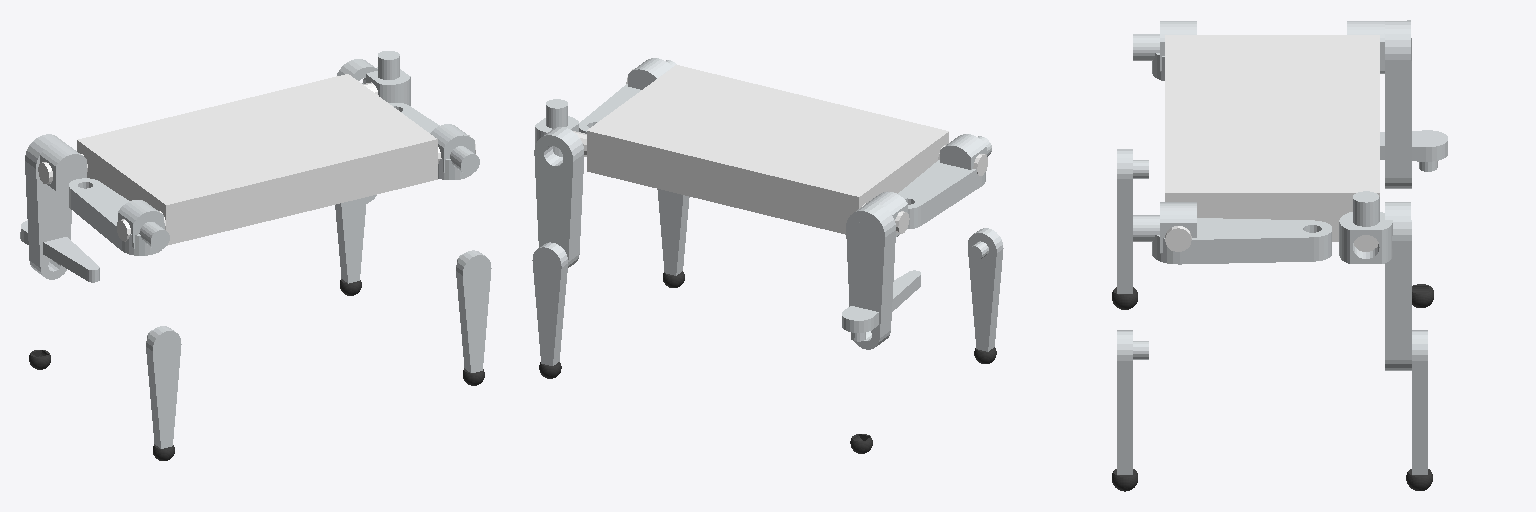
--- Facts derived from the render (not from the file) ---
Views: 3 orthographic renders of the robot side by side, from view 1: azimuth 30°, elevation 25°; view 2: azimuth 150°, elevation 25°; view 3: azimuth 270°, elevation 25°.
Robot: simpledog — 19 links, 18 joints (12 revolute, 6 fixed); root link base_link; default pose: every joint at zero.
Visible links, largest first — view 1: base_link, rear_left_2_Link, front_right_3_Link, rear_right_3_Link, rear_right_2_Link, front_left_3_Link, rear_right_1_Link, front_left_1_Link, rear_left_3_Link, rear_left_1_Link, front_right_1_Link, front_right_2_Link (+1 smaller); view 2: base_link, front_left_2_Link, rear_left_2_Link, front_left_3_Link, rear_right_3_Link, rear_right_2_Link, front_right_3_Link, rear_left_3_Link, rear_right_1_Link, front_left_1_Link, front_right_1_Link, rear_left_1_Link (+1 smaller); view 3: base_link, front_right_2_Link, rear_left_2_Link, front_left_2_Link, front_left_1_Link, front_right_3_Link, rear_right_3_Link, front_left_3_Link, front_right_1_Link, rear_left_3_Link, rear_right_1_Link, rear_left_1_Link.
Link boxes in pixels (x1=…): base_link: x1=38, y1=74, x2=475, y2=245; rear_left_2_Link: x1=25, y1=134, x2=71, y2=279; front_right_3_Link: x1=456, y1=250, x2=491, y2=372; rear_right_3_Link: x1=146, y1=326, x2=181, y2=448; rear_right_2_Link: x1=69, y1=178, x2=161, y2=255; front_left_3_Link: x1=335, y1=201, x2=365, y2=283; rear_right_1_Link: x1=118, y1=200, x2=169, y2=249; front_left_1_Link: x1=366, y1=51, x2=410, y2=105; rear_left_3_Link: x1=20, y1=220, x2=99, y2=282; rear_left_1_Link: x1=40, y1=142, x2=86, y2=195; front_right_1_Link: x1=430, y1=124, x2=479, y2=174; front_right_2_Link: x1=389, y1=103, x2=471, y2=179; base_link: x1=573, y1=65, x2=987, y2=234; front_left_2_Link: x1=534, y1=127, x2=583, y2=267; rear_left_2_Link: x1=846, y1=203, x2=895, y2=349; front_left_3_Link: x1=532, y1=242, x2=567, y2=365; rear_right_3_Link: x1=968, y1=228, x2=1003, y2=351; rear_right_2_Link: x1=898, y1=160, x2=985, y2=228; front_right_3_Link: x1=657, y1=189, x2=689, y2=275; rear_left_3_Link: x1=842, y1=270, x2=920, y2=341; rear_right_1_Link: x1=940, y1=134, x2=991, y2=170; front_left_1_Link: x1=535, y1=99, x2=578, y2=156; front_right_1_Link: x1=628, y1=58, x2=676, y2=89; rear_left_1_Link: x1=856, y1=191, x2=907, y2=241; base_link: x1=1165, y1=35, x2=1379, y2=251; front_right_2_Link: x1=1152, y1=218, x2=1331, y2=264; rear_left_2_Link: x1=1385, y1=20, x2=1411, y2=188; front_left_2_Link: x1=1385, y1=202, x2=1411, y2=370; front_left_1_Link: x1=1339, y1=191, x2=1392, y2=263; front_right_3_Link: x1=1117, y1=330, x2=1148, y2=474; rear_right_3_Link: x1=1117, y1=149, x2=1148, y2=293; front_left_3_Link: x1=1412, y1=330, x2=1427, y2=474; front_right_1_Link: x1=1133, y1=202, x2=1196, y2=253; rear_left_3_Link: x1=1380, y1=130, x2=1447, y2=171; rear_right_1_Link: x1=1133, y1=21, x2=1196, y2=71; rear_left_1_Link: x1=1347, y1=21, x2=1411, y2=73.
Size in the robot's own frame: 0.93 by 0.6275 by 0.622 metres.
17 mesh visuals loaded from 18 distinct referenced files (17 binary STL); not drawn: 1 (reference not matched to a file when rendering).

URDF robot description (simpledog):
<?xml version="1.0" ?>
<!-- =================================================================================== -->
<!-- |    This document was autogenerated by xacro from simpledog.urdf.xacro           | -->
<!-- |    EDITING THIS FILE BY HAND IS NOT RECOMMENDED                                 | -->
<!-- =================================================================================== -->
<robot name="simpledog" xmlns:xacro="http://ros.org/wiki/xacro">
  <gazebo reference="base_link">
    <material>Gazebo/DarkGrey</material>
    <mu1 value="10.0"/>
    <mu2 value="10.0"/>
    <kp value="10000000.0"/>
    <kd value="1.0"/>
    <fdir1 value="1 0 0"/>
    <gravity value="ture"/>
  </gazebo>
  <!--load the gazebo rosz-control plug in-->
  <gazebo>
    <plugin filename="librobot_state_gazebo_ros_control_plugin.so" name="balance_controller">
      <robotNamespace>/simpledog</robotNamespace>
      <robotSimType>balance_controller/SimRobotStateHardwareInterface</robotSimType>
    </plugin>
  </gazebo>
  <!-- <gazebo reference="imu_link">
    <sensor type="imu" name="imu">
      <always_on>true</always_on>
      <visualize>$(arg imu_visual)</visualize>
    </sensor>
    <material>Gazebo/Grey</material>
  </gazebo>

  <gazebo>
    <plugin name="imu_plugin" filename="libgazebo_ros_imu.so">
      <alwaysOn>true</alwaysOn>
      <bodyName>imu_link</bodyName>
      <frameName>imu_link</frameName>
      <topicName>imu</topicName>
      <serviceName>imu_service</serviceName>
      <gaussianNoise>0.0</gaussianNoise>
      <updateRate>200</updateRate>
      <imu>
        <noise>
          <type>gaussian</type>
          <rate>
            <mean>0.0</mean>
            <stddev>2e-4</stddev>
            <bias_mean>0.0000075</bias_mean>
            <bias_stddev>0.0000008</bias_stddev>
          </rate>
          <accel>
            <mean>0.0</mean>
            <stddev>1.7e-2</stddev>
            <bias_mean>0.1</bias_mean>
            <bias_stddev>0.001</bias_stddev>
          </accel>
        </noise>
      </imu>
    </plugin>
  </gazebo>

  <gazebo reference="base_scan">
    <material>Gazebo/FlatBlack</material>
    <sensor type="ray" name="lds_lfcd_sensor">
      <pose>0 0 0 0 0 0</pose>
      <visualize>$(arg laser_visual)</visualize>
      <update_rate>5</update_rate>
      <ray>
        <scan>
          <horizontal>
            <samples>360</samples>
            <resolution>1</resolution>
            <min_angle>0.0</min_angle>
            <max_angle>6.28319</max_angle>
          </horizontal>
        </scan>
        <range>
          <min>0.120</min>
          <max>3.5</max>
          <resolution>0.015</resolution>
        </range>
        <noise>
          <type>gaussian</type>
          <mean>0.0</mean>
          <stddev>0.01</stddev>
        </noise>
      </ray>
      <plugin name="gazebo_ros_lds_lfcd_controller" filename="libgazebo_ros_laser.so">
        <topicName>scan</topicName>
        <frameName>base_scan</frameName>
      </plugin>
    </sensor>
  </gazebo>

  <gazebo reference="camera_rgb_frame">
    <sensor type="depth" name="realsense_R200">
      <always_on>true</always_on>
      <visualize>$(arg camera_visual)</visualize>
      <camera>
          <horizontal_fov>1.3439</horizontal_fov>
          <image>
              <width>1920</width>
              <height>1080</height>
              <format>R8G8B8</format>
          </image>
          <depth_camera></depth_camera>
          <clip>
              <near>0.03</near>
              <far>100</far>
          </clip>
      </camera>
      <plugin name="camera_controller" filename="libgazebo_ros_openni_kinect.so">
        <baseline>0.2</baseline>
        <alwaysOn>true</alwaysOn>
        <updateRate>30.0</updateRate>
        <cameraName>camera</cameraName>
        <frameName>camera_rgb_optical_frame</frameName>
        <imageTopicName>rgb/image_raw</imageTopicName>
        <depthImageTopicName>depth/image_raw</depthImageTopicName>
        <pointCloudTopicName>depth/points</pointCloudTopicName>
        <cameraInfoTopicName>rgb/camera_info</cameraInfoTopicName>
        <depthImageCameraInfoTopicName>depth/camera_info</depthImageCameraInfoTopicName>
        <pointCloudCutoff>0.4</pointCloudCutoff>
            <hackBaseline>0.07</hackBaseline>
            <distortionK1>0.0</distortionK1>
            <distortionK2>0.0</distortionK2>
            <distortionK3>0.0</distortionK3>
            <distortionT1>0.0</distortionT1>
            <distortionT2>0.0</distortionT2>
        <CxPrime>0.0</CxPrime>
        <Cx>0.0</Cx>
        <Cy>0.0</Cy>
        <focalLength>0</focalLength>
        <hackBaseline>0</hackBaseline>
      </plugin>
    </sensor>
  </gazebo>-->
  <!-- Create kinect reference frame -->
  <!-- Add mesh for kinect -->
  <link name="camera_link">
    <origin rpy="0 0 0" xyz="0 0 0"/>
    <mass value="5.238"/>
    <visual>
      <origin rpy="0 0 1.5708" xyz="0 0 0"/>
      <geometry>
        <mesh filename="package://simpledog/meshes/kinect.dae"/>
      </geometry>
    </visual>
    <collision>
      <geometry>
        <box size="0.07 0.3 0.09"/>
      </geometry>
    </collision>
  </link>
  <joint name="camera_optical_joint" type="fixed">
    <origin rpy="-1.5708 0 -1.5708" xyz="0 0 0"/>
    <parent link="camera_link"/>
    <child link="camera_frame_optical"/>
  </joint>
  <link name="camera_frame_optical"/>
  <gazebo reference="camera_link">
    <sensor name="camera" type="depth">
      <always_on>true</always_on>
      <update_rate>10.0</update_rate>
      <camera>
        <horizontal_fov>1.04666666667</horizontal_fov>
        <image>
          <format>R8G8B8</format>
          <width>640</width>
          <height>480</height>
        </image>
        <clip>
          <near>0.05</near>
          <far>8.0</far>
        </clip>
      </camera>
      <plugin filename="libgazebo_ros_openni_kinect.so" name="kinect_camera_controller">
        <cameraName>camera</cameraName>
        <alwaysOn>true</alwaysOn>
        <updateRate>10.0</updateRate>
        <imageTopicName>rgb/image_raw</imageTopicName>
        <depthImageTopicName>depth/image_raw</depthImageTopicName>
        <pointCloudTopicName>depth/points</pointCloudTopicName>
        <cameraInfoTopicName>rgb/camera_info</cameraInfoTopicName>
        <depthImageCameraInfoTopicName>depth/camera_info</depthImageCameraInfoTopicName>
        <frameName>camera_frame_optical</frameName>
        <baseline>0.1</baseline>
        <distortion_k1>0.0</distortion_k1>
        <distortion_k2>0.0</distortion_k2>
        <distortion_k3>0.0</distortion_k3>
        <distortion_t1>0.0</distortion_t1>
        <distortion_t2>0.0</distortion_t2>
        <pointCloudCutoff>0.4</pointCloudCutoff>
        <robotNamespace>/simpledog</robotNamespace>
      </plugin>
    </sensor>
  </gazebo>
  <joint name="kinect_frame_joint" type="fixed">
    <origin rpy="0 0.18 0" xyz="0.3 0 0.1"/>
    <parent link="base_link"/>
    <child link="camera_link"/>
  </joint>
  <gazebo reference="front_left_1_Link">
    <mu1 value="100.0"/>
    <mu2 value="100.0"/>
    <kp value="10000000.0"/>
    <kd value="1.0"/>
    <fdir1 value="1 0 0"/>
  </gazebo>
  <gazebo reference="front_left_1_joint">
    <provideFeedback>true</provideFeedback>
  </gazebo>
  <gazebo>
    <plugin filename="libgazebo_ros_ft_sensor.so" name="ft_sensor">
      <updateRate>100.0</updateRate>
      <topicName>front_left_1_joint_ft_feedback</topicName>
      <jointName>front_left_1_joint</jointName>
    </plugin>
  </gazebo>
  <transmission name="front_left_1_joint_trans" type="SimpleTransmission">
    <type>transmission_interface/SimpleTransmission</type>
    <actuator name="front_left_1_joint_motor">
      <mechanicalReduction>1</mechanicalReduction>
    </actuator>
    <joint name="front_left_1_joint">
      <hardwareInterface>hardware_interface/EffortJointInterface</hardwareInterface>
    </joint>
  </transmission>
  <gazebo reference="front_left_2_Link">
    <mu1 value="100.0"/>
    <mu2 value="100.0"/>
    <kp value="10000000.0"/>
    <kd value="1.0"/>
    <fdir1 value="1 0 0"/>
  </gazebo>
  <gazebo reference="front_left_2_joint">
    <provideFeedback>true</provideFeedback>
  </gazebo>
  <gazebo>
    <plugin filename="libgazebo_ros_ft_sensor.so" name="ft_sensor">
      <updateRate>100.0</updateRate>
      <topicName>front_left_2_joint_ft_feedback</topicName>
      <jointName>front_left_2_joint</jointName>
    </plugin>
  </gazebo>
  <transmission name="front_left_2_joint_trans" type="SimpleTransmission">
    <type>transmission_interface/SimpleTransmission</type>
    <actuator name="front_left_2_joint_motor">
      <mechanicalReduction>1</mechanicalReduction>
    </actuator>
    <joint name="front_left_2_joint">
      <hardwareInterface>hardware_interface/EffortJointInterface</hardwareInterface>
    </joint>
  </transmission>
  <gazebo reference="front_left_3_Link">
    <mu1 value="100.0"/>
    <mu2 value="100.0"/>
    <kp value="10000000.0"/>
    <kd value="1.0"/>
    <fdir1 value="1 0 0"/>
  </gazebo>
  <gazebo reference="front_left_3_joint">
    <provideFeedback>true</provideFeedback>
  </gazebo>
  <gazebo>
    <plugin filename="libgazebo_ros_ft_sensor.so" name="ft_sensor">
      <updateRate>100.0</updateRate>
      <topicName>front_left_3_joint_ft_feedback</topicName>
      <jointName>front_left_3_joint</jointName>
    </plugin>
  </gazebo>
  <transmission name="front_left_3_joint_trans" type="SimpleTransmission">
    <type>transmission_interface/SimpleTransmission</type>
    <actuator name="front_left_3_joint_motor">
      <mechanicalReduction>1</mechanicalReduction>
    </actuator>
    <joint name="front_left_3_joint">
      <hardwareInterface>hardware_interface/EffortJointInterface</hardwareInterface>
    </joint>
  </transmission>
  <gazebo reference="front_right_1_Link">
    <mu1 value="100.0"/>
    <mu2 value="100.0"/>
    <kp value="10000000.0"/>
    <kd value="1.0"/>
    <fdir1 value="1 0 0"/>
  </gazebo>
  <gazebo reference="front_right_1_joint">
    <provideFeedback>true</provideFeedback>
  </gazebo>
  <gazebo>
    <plugin filename="libgazebo_ros_ft_sensor.so" name="ft_sensor">
      <updateRate>100.0</updateRate>
      <topicName>front_right_1_joint_ft_feedback</topicName>
      <jointName>front_right_1_joint</jointName>
    </plugin>
  </gazebo>
  <transmission name="front_right_1_joint_trans" type="SimpleTransmission">
    <type>transmission_interface/SimpleTransmission</type>
    <actuator name="front_right_1_joint_motor">
      <mechanicalReduction>1</mechanicalReduction>
    </actuator>
    <joint name="front_right_1_joint">
      <hardwareInterface>hardware_interface/EffortJointInterface</hardwareInterface>
    </joint>
  </transmission>
  <gazebo reference="front_right_2_Link">
    <mu1 value="100.0"/>
    <mu2 value="100.0"/>
    <kp value="10000000.0"/>
    <kd value="1.0"/>
    <fdir1 value="1 0 0"/>
  </gazebo>
  <gazebo reference="front_right_2_joint">
    <provideFeedback>true</provideFeedback>
  </gazebo>
  <gazebo>
    <plugin filename="libgazebo_ros_ft_sensor.so" name="ft_sensor">
      <updateRate>100.0</updateRate>
      <topicName>front_right_2_joint_ft_feedback</topicName>
      <jointName>front_right_2_joint</jointName>
    </plugin>
  </gazebo>
  <transmission name="front_right_2_joint_trans" type="SimpleTransmission">
    <type>transmission_interface/SimpleTransmission</type>
    <actuator name="front_right_2_joint_motor">
      <mechanicalReduction>1</mechanicalReduction>
    </actuator>
    <joint name="front_right_2_joint">
      <hardwareInterface>hardware_interface/EffortJointInterface</hardwareInterface>
    </joint>
  </transmission>
  <gazebo reference="front_right_3_Link">
    <mu1 value="100.0"/>
    <mu2 value="100.0"/>
    <kp value="10000000.0"/>
    <kd value="1.0"/>
    <fdir1 value="1 0 0"/>
  </gazebo>
  <gazebo reference="front_right_3_joint">
    <provideFeedback>true</provideFeedback>
  </gazebo>
  <gazebo>
    <plugin filename="libgazebo_ros_ft_sensor.so" name="ft_sensor">
      <updateRate>100.0</updateRate>
      <topicName>front_right_3_joint_ft_feedback</topicName>
      <jointName>front_right_3_joint</jointName>
    </plugin>
  </gazebo>
  <transmission name="front_right_3_joint_trans" type="SimpleTransmission">
    <type>transmission_interface/SimpleTransmission</type>
    <actuator name="front_right_3_joint_motor">
      <mechanicalReduction>1</mechanicalReduction>
    </actuator>
    <joint name="front_right_3_joint">
      <hardwareInterface>hardware_interface/EffortJointInterface</hardwareInterface>
    </joint>
  </transmission>
  <gazebo reference="rear_right_1_Link">
    <mu1 value="100.0"/>
    <mu2 value="100.0"/>
    <kp value="10000000.0"/>
    <kd value="1.0"/>
    <fdir1 value="1 0 0"/>
  </gazebo>
  <gazebo reference="rear_right_1_joint">
    <provideFeedback>true</provideFeedback>
  </gazebo>
  <gazebo>
    <plugin filename="libgazebo_ros_ft_sensor.so" name="ft_sensor">
      <updateRate>100.0</updateRate>
      <topicName>rear_right_1_joint_ft_feedback</topicName>
      <jointName>rear_right_1_joint</jointName>
    </plugin>
  </gazebo>
  <transmission name="rear_right_1_joint_trans" type="SimpleTransmission">
    <type>transmission_interface/SimpleTransmission</type>
    <actuator name="rear_right_1_joint_motor">
      <mechanicalReduction>1</mechanicalReduction>
    </actuator>
    <joint name="rear_right_1_joint">
      <hardwareInterface>hardware_interface/EffortJointInterface</hardwareInterface>
    </joint>
  </transmission>
  <gazebo reference="rear_right_2_Link">
    <mu1 value="100.0"/>
    <mu2 value="100.0"/>
    <kp value="10000000.0"/>
    <kd value="1.0"/>
    <fdir1 value="1 0 0"/>
  </gazebo>
  <gazebo reference="rear_right_2_joint">
    <provideFeedback>true</provideFeedback>
  </gazebo>
  <gazebo>
    <plugin filename="libgazebo_ros_ft_sensor.so" name="ft_sensor">
      <updateRate>100.0</updateRate>
      <topicName>rear_right_2_joint_ft_feedback</topicName>
      <jointName>rear_right_2_joint</jointName>
    </plugin>
  </gazebo>
  <transmission name="rear_right_2_joint_trans" type="SimpleTransmission">
    <type>transmission_interface/SimpleTransmission</type>
    <actuator name="rear_right_2_joint_motor">
      <mechanicalReduction>1</mechanicalReduction>
    </actuator>
    <joint name="rear_right_2_joint">
      <hardwareInterface>hardware_interface/EffortJointInterface</hardwareInterface>
    </joint>
  </transmission>
  <gazebo reference="rear_right_3_Link">
    <mu1 value="100.0"/>
    <mu2 value="100.0"/>
    <kp value="10000000.0"/>
    <kd value="1.0"/>
    <fdir1 value="1 0 0"/>
  </gazebo>
  <gazebo reference="rear_right_3_joint">
    <provideFeedback>true</provideFeedback>
  </gazebo>
  <gazebo>
    <plugin filename="libgazebo_ros_ft_sensor.so" name="ft_sensor">
      <updateRate>100.0</updateRate>
      <topicName>rear_right_3_joint_ft_feedback</topicName>
      <jointName>rear_right_3_joint</jointName>
    </plugin>
  </gazebo>
  <transmission name="rear_right_3_joint_trans" type="SimpleTransmission">
    <type>transmission_interface/SimpleTransmission</type>
    <actuator name="rear_right_3_joint_motor">
      <mechanicalReduction>1</mechanicalReduction>
    </actuator>
    <joint name="rear_right_3_joint">
      <hardwareInterface>hardware_interface/EffortJointInterface</hardwareInterface>
    </joint>
  </transmission>
  <gazebo reference="rear_left_1_Link">
    <mu1 value="100.0"/>
    <mu2 value="100.0"/>
    <kp value="10000000.0"/>
    <kd value="1.0"/>
    <fdir1 value="1 0 0"/>
  </gazebo>
  <gazebo reference="rear_left_1_joint">
    <provideFeedback>true</provideFeedback>
  </gazebo>
  <gazebo>
    <plugin filename="libgazebo_ros_ft_sensor.so" name="ft_sensor">
      <updateRate>100.0</updateRate>
      <topicName>rear_left_1_joint_ft_feedback</topicName>
      <jointName>rear_left_1_joint</jointName>
    </plugin>
  </gazebo>
  <transmission name="rear_left_1_joint_trans" type="SimpleTransmission">
    <type>transmission_interface/SimpleTransmission</type>
    <actuator name="rear_left_1_joint_motor">
      <mechanicalReduction>1</mechanicalReduction>
    </actuator>
    <joint name="rear_left_1_joint">
      <hardwareInterface>hardware_interface/EffortJointInterface</hardwareInterface>
    </joint>
  </transmission>
  <gazebo reference="rear_left_2_Link">
    <mu1 value="100.0"/>
    <mu2 value="100.0"/>
    <kp value="10000000.0"/>
    <kd value="1.0"/>
    <fdir1 value="1 0 0"/>
  </gazebo>
  <gazebo reference="rear_left_2_joint">
    <provideFeedback>true</provideFeedback>
  </gazebo>
  <gazebo>
    <plugin filename="libgazebo_ros_ft_sensor.so" name="ft_sensor">
      <updateRate>100.0</updateRate>
      <topicName>rear_left_2_joint_ft_feedback</topicName>
      <jointName>rear_left_2_joint</jointName>
    </plugin>
  </gazebo>
  <transmission name="rear_left_2_joint_trans" type="SimpleTransmission">
    <type>transmission_interface/SimpleTransmission</type>
    <actuator name="rear_left_2_joint_motor">
      <mechanicalReduction>1</mechanicalReduction>
    </actuator>
    <joint name="rear_left_2_joint">
      <hardwareInterface>hardware_interface/EffortJointInterface</hardwareInterface>
    </joint>
  </transmission>
  <gazebo reference="rear_left_3_Link">
    <mu1 value="100.0"/>
    <mu2 value="100.0"/>
    <kp value="10000000.0"/>
    <kd value="1.0"/>
    <fdir1 value="1 0 0"/>
  </gazebo>
  <gazebo reference="rear_left_3_joint">
    <provideFeedback>true</provideFeedback>
  </gazebo>
  <gazebo>
    <plugin filename="libgazebo_ros_ft_sensor.so" name="ft_sensor">
      <updateRate>100.0</updateRate>
      <topicName>rear_left_3_joint_ft_feedback</topicName>
      <jointName>rear_left_3_joint</jointName>
    </plugin>
  </gazebo>
  <transmission name="rear_left_3_joint_trans" type="SimpleTransmission">
    <type>transmission_interface/SimpleTransmission</type>
    <actuator name="rear_left_3_joint_motor">
      <mechanicalReduction>1</mechanicalReduction>
    </actuator>
    <joint name="rear_left_3_joint">
      <hardwareInterface>hardware_interface/EffortJointInterface</hardwareInterface>
    </joint>
  </transmission>
  <gazebo reference="lf_foot_Link">
    <material>Gazebo/DarkGrey</material>
    <mu1 value="100.0"/>
    <mu2 value="100.0"/>
    <kp value="10000000.0"/>
    <kd value="1.0"/>
    <fdir1 value="1 0 0"/>
  </gazebo>
  <gazebo reference="lf_foot_joint">
    <provideFeedback value="true"/>
  </gazebo>
  <gazebo reference="lf_foot_Link">
    <turnGravityOff>true</turnGravityOff>
    <selfCollide>false</selfCollide>
    <sensor name="lf_foot_contact_sensor" type="contact">
      <update_rate>100.0</update_rate>
      <contact>
        <collision>front_left_3_Link_fixed_joint_lump__lf_foot_Link_collision_1</collision>
      </contact>
      <plugin filename="libgazebo_ros_bumper.so" name="lf_foot_gazebo_ros_bumper_controller">
        <alwaysOn>true</alwaysOn>
        <frameName>lf_foot_Link</frameName>
        <!-- <frameName>world</frameName> -->
        <updateRate>100.0</updateRate>
        <bumperTopicName>lf_foot_bumper</bumperTopicName>
      </plugin>
    </sensor>
  </gazebo>
  <!-- <gazebo>
                <plugin name="ft_sensor" filename="libgazebo_ros_ft_sensor.so">
                    <updateRate>100.0</updateRate>
                    <topicName>${foot_prefix}_joint_ft_feedback</topicName>
                    <jointName>${foot_prefix}_joint</jointName>
                </plugin>
            </gazebo> -->
  <gazebo>
    <plugin filename="libgazebo_ros_f3d.so" name="f3d_lf_foot_controller">
      <alwaysOn>true</alwaysOn>
      <updateRate>10.0</updateRate>
      <frameName>base_link</frameName>
      <bodyName>lf_foot_Link</bodyName>
      <topicName>lf_foot_force_ground_truth</topicName>
    </plugin>
  </gazebo>
  <gazebo reference="rf_foot_Link">
    <material>Gazebo/DarkGrey</material>
    <mu1 value="100.0"/>
    <mu2 value="100.0"/>
    <kp value="10000000.0"/>
    <kd value="1.0"/>
    <fdir1 value="1 0 0"/>
  </gazebo>
  <gazebo reference="rf_foot_joint">
    <provideFeedback value="true"/>
  </gazebo>
  <gazebo reference="rf_foot_Link">
    <turnGravityOff>true</turnGravityOff>
    <selfCollide>false</selfCollide>
    <sensor name="rf_foot_contact_sensor" type="contact">
      <update_rate>100.0</update_rate>
      <contact>
        <collision>front_right_3_Link_fixed_joint_lump__rf_foot_Link_collision_1</collision>
      </contact>
      <plugin filename="libgazebo_ros_bumper.so" name="rf_foot_gazebo_ros_bumper_controller">
        <alwaysOn>true</alwaysOn>
        <frameName>rf_foot_Link</frameName>
        <!-- <frameName>world</frameName> -->
        <updateRate>100.0</updateRate>
        <bumperTopicName>rf_foot_bumper</bumperTopicName>
      </plugin>
    </sensor>
  </gazebo>
  <!-- <gazebo>
                <plugin name="ft_sensor" filename="libgazebo_ros_ft_sensor.so">
                    <updateRate>100.0</updateRate>
                    <topicName>${foot_prefix}_joint_ft_feedback</topicName>
                    <jointName>${foot_prefix}_joint</jointName>
                </plugin>
            </gazebo> -->
  <gazebo>
    <plugin filename="libgazebo_ros_f3d.so" name="f3d_rf_foot_controller">
      <alwaysOn>true</alwaysOn>
      <updateRate>10.0</updateRate>
      <frameName>base_link</frameName>
      <bodyName>rf_foot_Link</bodyName>
      <topicName>rf_foot_force_ground_truth</topicName>
    </plugin>
  </gazebo>
  <gazebo reference="rh_foot_Link">
    <material>Gazebo/DarkGrey</material>
    <mu1 value="100.0"/>
    <mu2 value="100.0"/>
    <kp value="10000000.0"/>
    <kd value="1.0"/>
    <fdir1 value="1 0 0"/>
  </gazebo>
  <gazebo reference="rh_foot_joint">
    <provideFeedback value="true"/>
  </gazebo>
  <gazebo reference="rh_foot_Link">
    <turnGravityOff>true</turnGravityOff>
    <selfCollide>false</selfCollide>
    <sensor name="rh_foot_contact_sensor" type="contact">
      <update_rate>100.0</update_rate>
      <contact>
        <collision>rear_left_3_Link_fixed_joint_lump__rh_foot_Link_collision_1</collision>
      </contact>
      <plugin filename="libgazebo_ros_bumper.so" name="rh_foot_gazebo_ros_bumper_controller">
        <alwaysOn>true</alwaysOn>
        <frameName>rh_foot_Link</frameName>
        <!-- <frameName>world</frameName> -->
        <updateRate>100.0</updateRate>
        <bumperTopicName>rh_foot_bumper</bumperTopicName>
      </plugin>
    </sensor>
  </gazebo>
  <!-- <gazebo>
                <plugin name="ft_sensor" filename="libgazebo_ros_ft_sensor.so">
                    <updateRate>100.0</updateRate>
                    <topicName>${foot_prefix}_joint_ft_feedback</topicName>
                    <jointName>${foot_prefix}_joint</jointName>
                </plugin>
            </gazebo> -->
  <gazebo>
    <plugin filename="libgazebo_ros_f3d.so" name="f3d_rh_foot_controller">
      <alwaysOn>true</alwaysOn>
      <updateRate>10.0</updateRate>
      <frameName>base_link</frameName>
      <bodyName>rh_foot_Link</bodyName>
      <topicName>rh_foot_force_ground_truth</topicName>
    </plugin>
  </gazebo>
  <gazebo reference="lh_foot_Link">
    <material>Gazebo/DarkGrey</material>
    <mu1 value="100.0"/>
    <mu2 value="100.0"/>
    <kp value="10000000.0"/>
    <kd value="1.0"/>
    <fdir1 value="1 0 0"/>
  </gazebo>
  <gazebo reference="lh_foot_joint">
    <provideFeedback value="true"/>
  </gazebo>
  <gazebo reference="lh_foot_Link">
    <turnGravityOff>true</turnGravityOff>
    <selfCollide>false</selfCollide>
    <sensor name="lh_foot_contact_sensor" type="contact">
      <update_rate>100.0</update_rate>
      <contact>
        <collision>rear_right_3_Link_fixed_joint_lump__lh_foot_Link_collision_1</collision>
      </contact>
      <plugin filename="libgazebo_ros_bumper.so" name="lh_foot_gazebo_ros_bumper_controller">
        <alwaysOn>true</alwaysOn>
        <frameName>lh_foot_Link</frameName>
        <!-- <frameName>world</frameName> -->
        <updateRate>100.0</updateRate>
        <bumperTopicName>lh_foot_bumper</bumperTopicName>
      </plugin>
    </sensor>
  </gazebo>
  <!-- <gazebo>
                <plugin name="ft_sensor" filename="libgazebo_ros_ft_sensor.so">
                    <updateRate>100.0</updateRate>
                    <topicName>${foot_prefix}_joint_ft_feedback</topicName>
                    <jointName>${foot_prefix}_joint</jointName>
                </plugin>
            </gazebo> -->
  <gazebo>
    <plugin filename="libgazebo_ros_f3d.so" name="f3d_lh_foot_controller">
      <alwaysOn>true</alwaysOn>
      <updateRate>10.0</updateRate>
      <frameName>base_link</frameName>
      <bodyName>lh_foot_Link</bodyName>
      <topicName>lh_foot_force_ground_truth</topicName>
    </plugin>
  </gazebo>
  <link name="base_link">
    <inertial>
      <origin rpy="0 0 0" xyz="2.919E-17 -4.8141E-17 9.4163E-19"/>
      <mass value="15.238"/>
      <inertia ixx="0.74932" ixy="-1.2062E-17" ixz="-2.0602E-16" iyy="2.3017" iyz="-3.8366E-17" izz="2.9675"/>
    </inertial>
    <visual>
      <origin rpy="0 0 0" xyz="0 0 0"/>
      <geometry>
        <mesh filename="package://simpledog/meshes/base_link.STL"/>
      </geometry>
      <material name="">
        <color rgba="1 1 1 1"/>
      </material>
    </visual>
    <collision>
      <origin rpy="0 0 0" xyz="0 0 0"/>
      <geometry>
        <mesh filename="package://simpledog/meshes/base_link.STL"/>
      </geometry>
    </collision>
  </link>
  <link name="front_left_1_Link">
    <inertial>
      <origin rpy="0 0 0" xyz="1.7015E-17 0.012793 -0.00023552"/>
      <mass value="1.1709"/>
      <inertia ixx="0.001719" ixy="2.9302E-20" ixz="-1.6433E-19" iyy="0.0013167" iyz="-7.6795E-20" izz="0.0021511"/>
    </inertial>
    <visual>
      <origin rpy="0 0 0" xyz="0 0 0"/>
      <geometry>
        <mesh filename="package://simpledog/meshes/front_left_1_Link.STL"/>
      </geometry>
      <material name="">
        <color rgba="0.89804 0.91765 0.92941 1"/>
      </material>
    </visual>
    <collision>
      <origin rpy="0 0 0" xyz="0 0 0"/>
      <geometry>
        <mesh filename="package://simpledog/meshes/front_left_1_Link.STL"/>
      </geometry>
    </collision>
  </link>
  <joint name="front_left_1_joint" type="revolute">
    <origin rpy="1.57079632679453 1.57051603921301 1.57079632679453" xyz="0.400 0.175 0"/>
    <parent link="base_link"/>
    <child link="front_left_1_Link"/>
    <axis xyz="0 0 1"/>
    <limit effort="300" lower="-3.0" upper="3.0" velocity="10"/>
  </joint>
  <link name="front_left_2_Link">
    <inertial>
      <origin rpy="0 0 0" xyz="0.11439 0.00028184 0.05942"/>
      <mass value="1.3902"/>
      <inertia ixx="0.0030209" ixy="-5.6504E-20" ixz="2.8413E-18" iyy="0.026875" iyz="1.5349E-06" izz="0.028484"/>
    </inertial>
    <visual>
      <origin rpy="0 0 0" xyz="0 0 0"/>
      <geometry>
        <mesh filename="package://simpledog/meshes/front_left_2_Link.STL"/>
      </geometry>
      <material name="">
        <color rgba="0.89804 0.91765 0.92941 1"/>
      </material>
    </visual>
    <collision>
      <origin rpy="0 0 0" xyz="0 0 0"/>
      <geometry>
        <mesh filename="package://simpledog/meshes/front_left_2_Link.STL"/>
      </geometry>
    </collision>
  </link>
  <joint name="front_left_2_joint" type="revolute">
    <origin rpy="-1.5708 0 0" xyz="0 0 0"/>
    <parent link="front_left_1_Link"/>
    <child link="front_left_2_Link"/>
    <axis xyz="0 0 1"/>
    <limit effort="300" lower="-3.0" upper="3.0" velocity="10"/>
  </joint>
  <link name="front_left_3_Link">
    <inertial>
      <origin rpy="0 0 0" xyz="0.087825 1.529E-05 -0.016708"/>
      <mass value="1.3523"/>
      <inertia ixx="0.00053032" ixy="-8.5291E-07" ixz="-0.00020744" iyy="0.0091429" iyz="-8.3738E-08" izz="0.009338"/>
    </inertial>
    <visual>
      <origin rpy="0 0 0" xyz="0 0 0"/>
      <geometry>
        <mesh filename="package://simpledog/meshes/front_left_3_Link.STL"/>
      </geometry>
      <material name="">
        <color rgba="0.89804 0.91765 0.92941 1"/>
      </material>
    </visual>
    <collision>
      <origin rpy="0 0 0" xyz="0 0 0"/>
      <geometry>
        <mesh filename="package://simpledog/meshes/front_left_3_Link.STL"/>
      </geometry>
    </collision>
  </link>
  <joint name="front_left_3_joint" type="revolute">
    <origin rpy="0 0 0" xyz="0.250069171339977 0.000334332414087979 0.11441948932032"/>
    <parent link="front_left_2_Link"/>
    <child link="front_left_3_Link"/>
    <axis xyz="0 0 1"/>
    <limit effort="300" lower="-3.0" upper="3.0" velocity="10"/>
  </joint>
  <link name="lf_foot_Link">
    <inertial>
      <origin rpy="0 0 0" xyz="0.0178251114319979 0 0"/>
      <mass value="0.0556193699314689"/>
      <inertia ixx="1.65498601680364E-05" ixy="-1.00565663974796E-21" ixz="1.3524403015242E-22" iyy="1.23221647613412E-05" iyz="-3.56241096455504E-11" izz="1.25699738250509E-05"/>
    </inertial>
    <visual>
      <origin rpy="0 0 0" xyz="0 0 0"/>
      <geometry>
        <mesh filename="package://simpledog/meshes/lf_foot_Link.STL"/>
      </geometry>
      <material name="">
        <color rgba="0.298039215686275 0.298039215686275 0.298039215686275 1"/>
      </material>
    </visual>
    <collision>
      <origin rpy="0 0 0" xyz="0 0 0"/>
      <geometry>
        <mesh filename="package://simpledog/meshes/lf_foot_Link.STL"/>
      </geometry>
    </collision>
  </link>
  <joint name="lf_foot_joint" type="fixed">
    <origin rpy="0 0 0" xyz="0.250003601978058 0 -0.0149398452771417"/>
    <parent link="front_left_3_Link"/>
    <child link="lf_foot_Link"/>
    <axis xyz="0 0 0"/>
  </joint>
  <link name="front_right_1_Link">
    <inertial>
      <origin rpy="0 0 0" xyz="9.7104E-17 0.012793 1.6653E-16"/>
      <mass value="1.1709"/>
      <inertia ixx="0.001719" ixy="-5.88E-19" ixz="-1.7779E-19" iyy="0.0013167" iyz="-2.0543E-19" izz="0.0021511"/>
    </inertial>
    <visual>
      <origin rpy="0 0 0" xyz="0 0 0"/>
      <geometry>
        <mesh filename="package://simpledog/meshes/front_right_1_Link.STL"/>
      </geometry>
      <material name="">
        <color rgba="0.89804 0.91765 0.92941 1"/>
      </material>
    </visual>
    <collision>
      <origin rpy="0 0 0" xyz="0 0 0"/>
      <geometry>
        <mesh filename="package://simpledog/meshes/front_right_1_Link.STL"/>
      </geometry>
    </collision>
  </link>
  <joint name="front_right_1_joint" type="revolute">
    <origin rpy="1.5708 1.5708 -1.5708" xyz="0.4 -0.175 0"/>
    <parent link="base_link"/>
    <child link="front_right_1_Link"/>
    <axis xyz="0 0 1"/>
    <limit effort="300" lower="-3.0" upper="3.0" velocity="10"/>
  </joint>
  <link name="front_right_2_Link">
    <inertial>
      <origin rpy="0 0 0" xyz="0.11432 -5.5511E-17 0.05942"/>
      <mass value="1.3902"/>
      <inertia ixx="0.0030209" ixy="-4.0905E-18" ixz="-8.1586E-10" iyy="0.026875" iyz="2.3399E-19" izz="0.028484"/>
    </inertial>
    <visual>
      <origin rpy="0 0 0" xyz="0 0 0"/>
      <geometry>
        <mesh filename="package://simpledog/meshes/front_right_2_Link.STL"/>
      </geometry>
      <material name="">
        <color rgba="0.89804 0.91765 0.92941 1"/>
      </material>
    </visual>
    <collision>
      <origin rpy="0 0 0" xyz="0 0 0"/>
      <geometry>
        <mesh filename="package://simpledog/meshes/front_right_2_Link.STL"/>
      </geometry>
    </collision>
  </link>
  <joint name="front_right_2_joint" type="revolute">
    <origin rpy="-1.5708 0 0" xyz="0 0 0"/>
    <parent link="front_right_1_Link"/>
    <child link="front_right_2_Link"/>
    <axis xyz="0 0 1"/>
    <limit effort="300" lower="-3.0" upper="3.0" velocity="10"/>
  </joint>
  <link name="front_right_3_Link">
    <inertial>
      <origin rpy="0 0 0" xyz="0.087821 6.7221E-06 -0.016729"/>
      <mass value="1.3523"/>
      <inertia ixx="0.00053022" ixy="-9.5809E-07" ixz="-0.00020532" iyy="0.0091429" iyz="1.6437E-08" izz="0.0093381"/>
    </inertial>
    <visual>
      <origin rpy="0 0 0" xyz="0 0 0"/>
      <geometry>
        <mesh filename="package://simpledog/meshes/front_right_3_Link.STL"/>
      </geometry>
      <material name="">
        <color rgba="0.89804 0.91765 0.92941 1"/>
      </material>
    </visual>
    <collision>
      <origin rpy="0 0 0" xyz="0 0 0"/>
      <geometry>
        <mesh filename="package://simpledog/meshes/front_right_3_Link.STL"/>
      </geometry>
    </collision>
  </link>
  <joint name="front_right_3_joint" type="revolute">
    <origin rpy="0 0 0" xyz="0.249999996334044 0 0.114419764295838"/>
    <parent link="front_right_2_Link"/>
    <child link="front_right_3_Link"/>
    <axis xyz="0 0 1"/>
    <limit effort="300" lower="-3.0" upper="3.0" velocity="10"/>
  </joint>
  <link name="rf_foot_Link">
    <inertial>
      <origin rpy="0 0 0" xyz="0.017825 0 0"/>
      <mass value="0.055619"/>
      <inertia ixx="1.655E-05" ixy="2.2089E-21" ixz="-1.1638E-21" iyy="1.2322E-05" iyz="-2.0835E-21" izz="1.257E-05"/>
    </inertial>
    <visual>
      <origin rpy="0 0 0" xyz="0 0 0"/>
      <geometry>
        <mesh filename="package://simpledog/meshes/rf_foot_Link.STL"/>
      </geometry>
      <material name="">
        <color rgba="0.29804 0.29804 0.29804 1"/>
      </material>
    </visual>
    <collision>
      <origin rpy="0 0 0" xyz="0 0 0"/>
      <geometry>
        <mesh filename="package://simpledog/meshes/rf_foot_Link.STL"/>
      </geometry>
    </collision>
  </link>
  <joint name="rf_foot_joint" type="fixed">
    <origin rpy="-0.00020601381558494 5.03069808033274E-17 -4.99600361081321E-16" xyz="0.25 0 -0.0149999996816874"/>
    <parent link="front_right_3_Link"/>
    <child link="rf_foot_Link"/>
    <axis xyz="0 0 0"/>
  </joint>
  <link name="rear_left_1_Link">
    <inertial>
      <origin rpy="0 0 0" xyz="5.7896E-17 0.012793 2.7756E-16"/>
      <mass value="1.1709"/>
      <inertia ixx="0.001719" ixy="-2.0371E-19" ixz="5.3128E-21" iyy="0.0013167" iyz="-3.3901E-19" izz="0.0021511"/>
    </inertial>
    <visual>
      <origin rpy="0 0 0" xyz="0 0 0"/>
      <geometry>
        <mesh filename="package://simpledog/meshes/rear_left_1_Link.STL"/>
      </geometry>
      <material name="">
        <color rgba="0.89804 0.91765 0.92941 1"/>
      </material>
    </visual>
    <collision>
      <origin rpy="0 0 0" xyz="0 0 0"/>
      <geometry>
        <mesh filename="package://simpledog/meshes/rear_left_1_Link.STL"/>
      </geometry>
    </collision>
  </link>
  <joint name="rear_left_1_joint" type="revolute">
    <origin rpy="1.57079632679488 1.56519932988528 1.57079632679488" xyz="-0.4 0.175 0"/>
    <parent link="base_link"/>
    <child link="rear_left_1_Link"/>
    <axis xyz="0 0 1"/>
    <limit effort="300" lower="-3.0" upper="3.0" velocity="10"/>
  </joint>
  <link name="rear_left_2_Link">
    <inertial>
      <origin rpy="0 0 0" xyz="0.11432 0 0.05942"/>
      <mass value="1.3902"/>
      <inertia ixx="0.0030209" ixy="-1.8526E-18" ixz="2.5242E-19" iyy="0.026875" iyz="3.7608E-19" izz="0.028484"/>
    </inertial>
    <visual>
      <origin rpy="0 0 0" xyz="0 0 0"/>
      <geometry>
        <mesh filename="package://simpledog/meshes/rear_left_2_Link.STL"/>
      </geometry>
      <material name="">
        <color rgba="0.89804 0.91765 0.92941 1"/>
      </material>
    </visual>
    <collision>
      <origin rpy="0 0 0" xyz="0 0 0"/>
      <geometry>
        <mesh filename="package://simpledog/meshes/rear_left_2_Link.STL"/>
      </geometry>
    </collision>
  </link>
  <joint name="rear_left_2_joint" type="revolute">
    <origin rpy="-1.5707963267949 0 0" xyz="0 0 0"/>
    <parent link="rear_left_1_Link"/>
    <child link="rear_left_2_Link"/>
    <axis xyz="0 0 1"/>
    <limit effort="300" lower="-3.0" upper="3.0" velocity="10"/>
  </joint>
  <link name="rear_left_3_Link">
    <inertial>
      <origin rpy="0 0 0" xyz="0.087821 5.7424E-05 -0.016729"/>
      <mass value="1.3523"/>
      <inertia ixx="0.00053022" ixy="-3.3581E-07" ixz="-0.00020532" iyy="0.0091429" iyz="-5.7512E-07" izz="0.0093381"/>
    </inertial>
    <visual>
      <origin rpy="0 0 0" xyz="0 0 0"/>
      <geometry>
        <mesh filename="package://simpledog/meshes/rear_left_3_Link.STL"/>
      </geometry>
      <material name="">
        <color rgba="0.89804 0.91765 0.92941 1"/>
      </material>
    </visual>
    <collision>
      <origin rpy="0 0 0" xyz="0 0 0"/>
      <geometry>
        <mesh filename="package://simpledog/meshes/rear_left_3_Link.STL"/>
      </geometry>
    </collision>
  </link>
  <joint name="rear_left_3_joint" type="revolute">
    <origin rpy="0 0 0" xyz="0.25 0 0.114419756285561"/>
    <parent link="rear_left_2_Link"/>
    <child link="rear_left_3_Link"/>
    <axis xyz="0 0 1"/>
    <limit effort="300" lower="-3.0" upper="3.0" velocity="10"/>
  </joint>
  <link name="lh_foot_Link">
    <inertial>
      <origin rpy="0 0 0" xyz="0.017825 -1.1102E-16 5.5511E-17"/>
      <mass value="0.055619"/>
      <inertia ixx="1.655E-05" ixy="3.2567E-22" ixz="-9.7111E-22" iyy="1.2322E-05" iyz="5.4896E-20" izz="1.257E-05"/>
    </inertial>
    <visual>
      <origin rpy="0 0 0" xyz="0 0 0"/>
      <geometry>
        <mesh filename="package://simpledog/meshes/rh_foot_Link.STL"/>
      </geometry>
      <material name="">
        <color rgba="0.29804 0.29804 0.29804 1"/>
      </material>
    </visual>
    <collision>
      <origin rpy="0 0 0" xyz="0 0 0"/>
      <geometry>
        <mesh filename="package://simpledog/meshes/rh_foot_Link.STL"/>
      </geometry>
    </collision>
  </link>
  <joint name="lh_foot_joint" type="fixed">
    <origin rpy="0 0 0" xyz="0.24742286767759 0.000379574544590811 -0.015"/>
    <parent link="rear_left_3_Link"/>
    <child link="lh_foot_Link"/>
    <axis xyz="0 0 0"/>
  </joint>
  <link name="rear_right_1_Link">
    <inertial>
      <origin rpy="0 0 0" xyz="-6.2968E-06 0.012793 0.0003022"/>
      <mass value="1.1709"/>
      <inertia ixx="0.001719" ixy="1.9803E-07" ixz="-1.4315E-19" iyy="0.0013167" iyz="-1.2614E-19" izz="0.0021511"/>
    </inertial>
    <visual>
      <origin rpy="0 0 0" xyz="0 0 0"/>
      <geometry>
        <mesh filename="package://simpledog/meshes/rear_right_1_Link.STL"/>
      </geometry>
      <material name="">
        <color rgba="0.89804 0.91765 0.92941 1"/>
      </material>
    </visual>
    <collision>
      <origin rpy="0 0 0" xyz="0 0 0"/>
      <geometry>
        <mesh filename="package://simpledog/meshes/rear_right_1_Link.STL"/>
      </geometry>
    </collision>
  </link>
  <joint name="rear_right_1_joint" type="revolute">
    <origin rpy="1.5708 1.5708 -1.5708" xyz="-0.4 -0.175 0"/>
    <parent link="base_link"/>
    <child link="rear_right_1_Link"/>
    <axis xyz="0 0 1"/>
    <limit effort="300" lower="-3.0" upper="3.0" velocity="10"/>
  </joint>
  <link name="rear_right_2_Link">
    <inertial>
      <origin rpy="0 0 0" xyz="0.11443 -8.407E-05 0.05942"/>
      <mass value="1.3902"/>
      <inertia ixx="0.0030209" ixy="-4.1489E-12" ixz="-1.2337E-09" iyy="0.026876" iyz="5.4085E-06" izz="0.028484"/>
    </inertial>
    <visual>
      <origin rpy="0 0 0" xyz="0 0 0"/>
      <geometry>
        <mesh filename="package://simpledog/meshes/rear_right_2_Link.STL"/>
      </geometry>
      <material name="">
        <color rgba="0.89804 0.91765 0.92941 1"/>
      </material>
    </visual>
    <collision>
      <origin rpy="0 0 0" xyz="0 0 0"/>
      <geometry>
        <mesh filename="package://simpledog/meshes/rear_right_2_Link.STL"/>
      </geometry>
    </collision>
  </link>
  <joint name="rear_right_2_joint" type="revolute">
    <origin rpy="-1.5708 0 0" xyz="0 0 0"/>
    <parent link="rear_right_1_Link"/>
    <child link="rear_right_2_Link"/>
    <axis xyz="0 0 1"/>
    <limit effort="300" lower="-3.0" upper="3.0" velocity="10"/>
  </joint>
  <link name="rear_right_3_Link">
    <inertial>
      <origin rpy="0 0 0" xyz="0.087821 6.0067E-06 -0.016729"/>
      <mass value="1.3523"/>
      <inertia ixx="0.00053022" ixy="-9.6687E-07" ixz="-0.00020532" iyy="0.0091429" iyz="2.4784E-08" izz="0.0093381"/>
    </inertial>
    <visual>
      <origin rpy="0 0 0" xyz="0 0 0"/>
      <geometry>
        <mesh filename="package://simpledog/meshes/rear_right_3_Link.STL"/>
      </geometry>
      <material name="">
        <color rgba="0.89804 0.91765 0.92941 1"/>
      </material>
    </visual>
    <collision>
      <origin rpy="0 0 0" xyz="0 0 0"/>
      <geometry>
        <mesh filename="package://simpledog/meshes/rear_right_3_Link.STL"/>
      </geometry>
    </collision>
  </link>
  <joint name="rear_right_3_joint" type="revolute">
    <origin rpy="0 0 0" xyz="0.25010358767993 0.0001008844556592 0.114420076111023"/>
    <parent link="rear_right_2_Link"/>
    <child link="rear_right_3_Link"/>
    <axis xyz="0 0 1"/>
    <limit effort="300" lower="-3.0" upper="3.0" velocity="10"/>
  </joint>
  <link name="rh_foot_Link">
    <inertial>
      <origin rpy="0 0 0" xyz="0.017825 -1.1102E-16 0"/>
      <mass value="0.055619"/>
      <inertia ixx="1.655E-05" ixy="2.3509E-21" ixz="-1.4161E-21" iyy="1.2322E-05" iyz="6.8491E-22" izz="1.257E-05"/>
    </inertial>
    <visual>
      <origin rpy="0 0 0" xyz="0 0 0"/>
      <geometry>
        <mesh filename="package://simpledog/meshes/lh_foot_Link.STL"/>
      </geometry>
      <material name="">
        <color rgba="0.29804 0.29804 0.29804 1"/>
      </material>
    </visual>
    <collision>
      <origin rpy="0 0 0" xyz="0 0 0"/>
      <geometry>
        <mesh filename="package://simpledog/meshes/lh_foot_Link.STL"/>
      </geometry>
    </collision>
  </link>
  <joint name="rh_foot_joint" type="fixed">
    <origin rpy="0 0 0" xyz="0.24968 0.00033355 -0.015"/>
    <parent link="rear_right_3_Link"/>
    <child link="rh_foot_Link"/>
    <axis xyz="0 0 0"/>
  </joint>
</robot>
